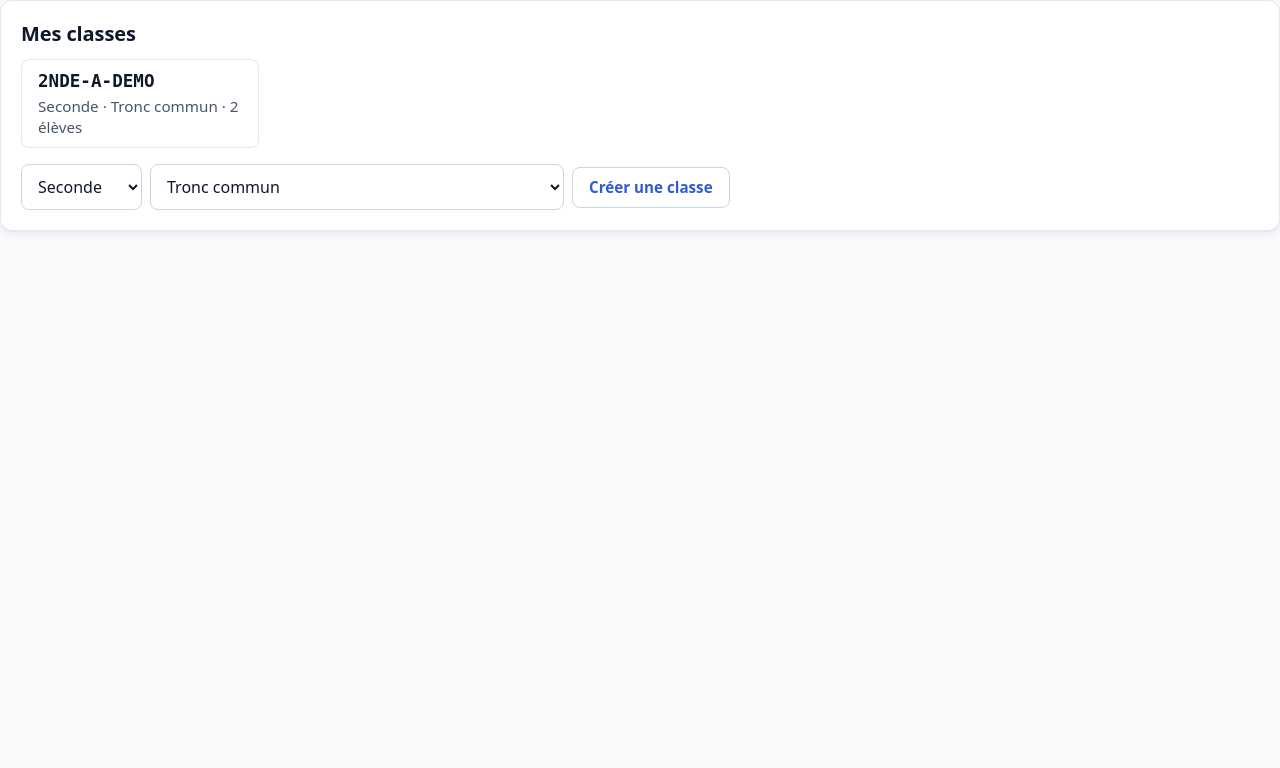
it: classes et élèves › demande confirmation avant l'effacement RGPD
The image size is (1280, 768).
Click the button "2NDE-A-DEMO Seconde · Tronc commun · 2 élèves".
click(140, 104)  # box 21,59 -> 259,148
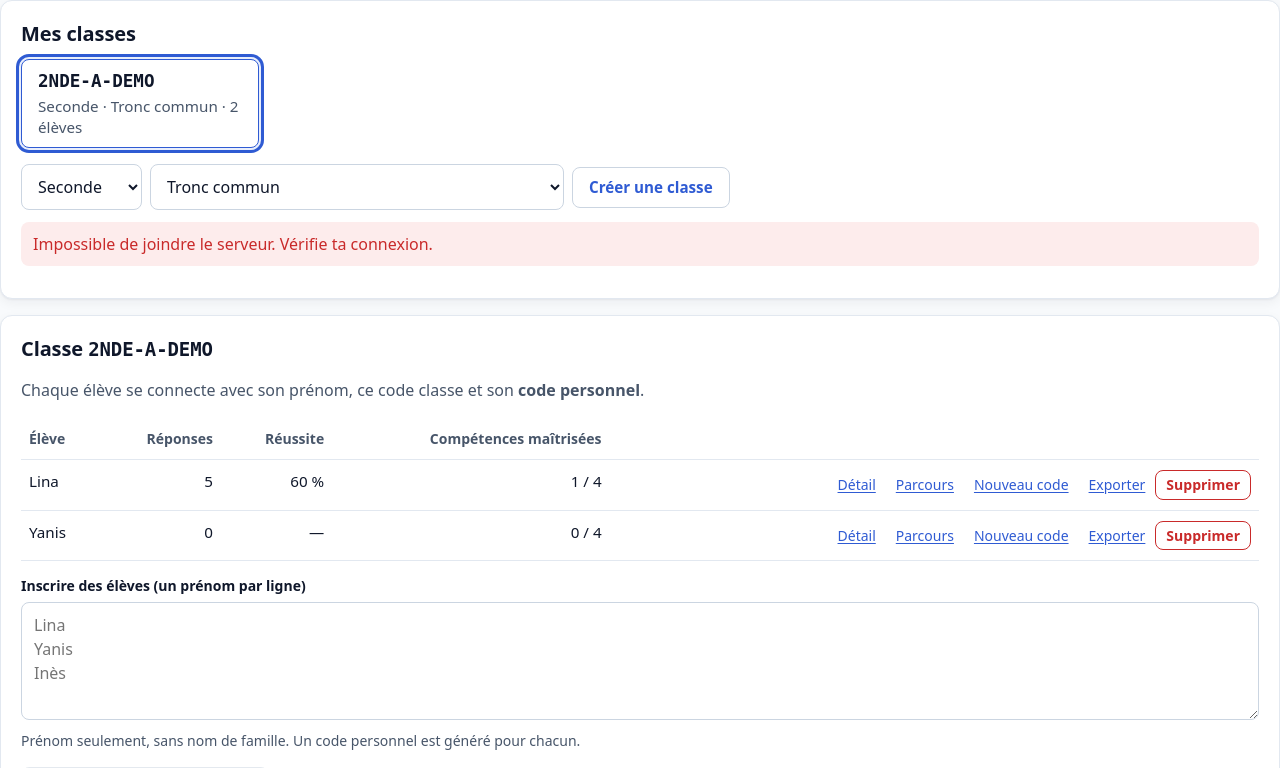
Click the button with aria-label "Supprimer Lina".
click(1203, 485)  # box 1155,470 -> 1251,500
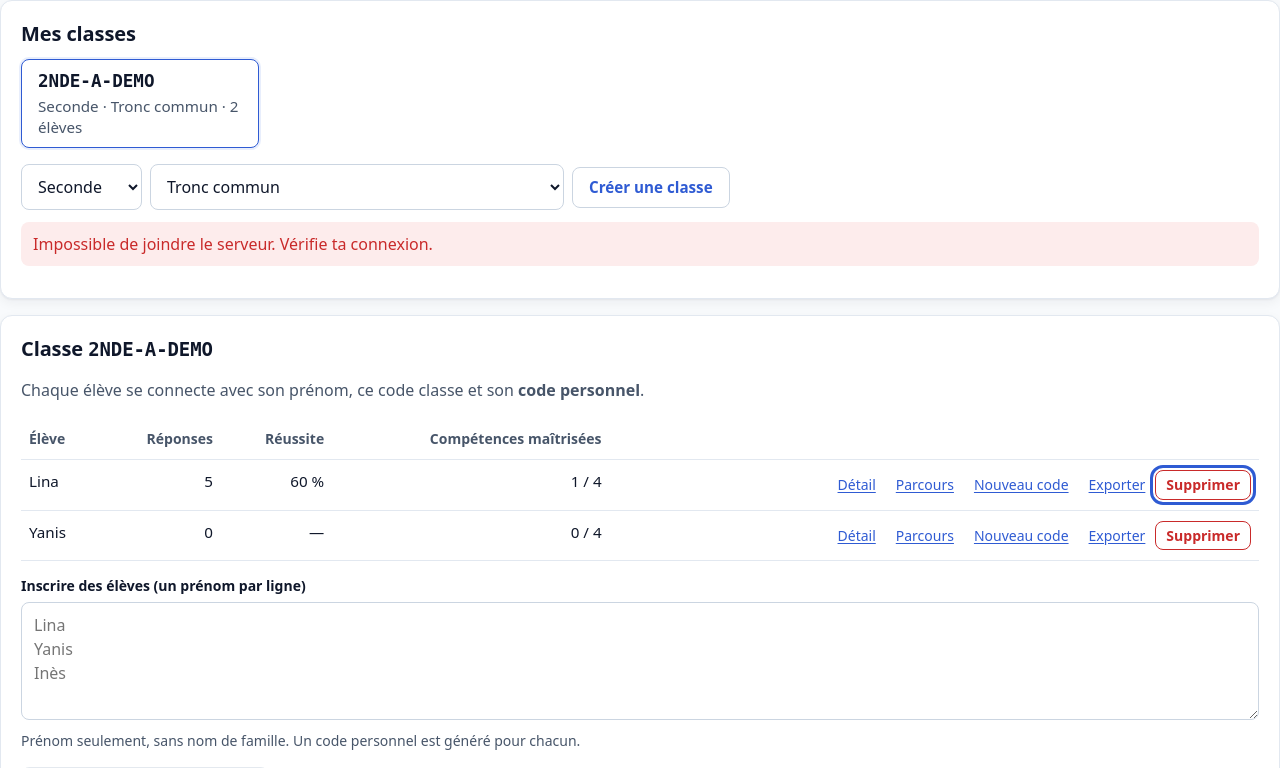
Click the button with aria-label "Supprimer Lina".
click(1203, 485)  # box 1155,470 -> 1251,500
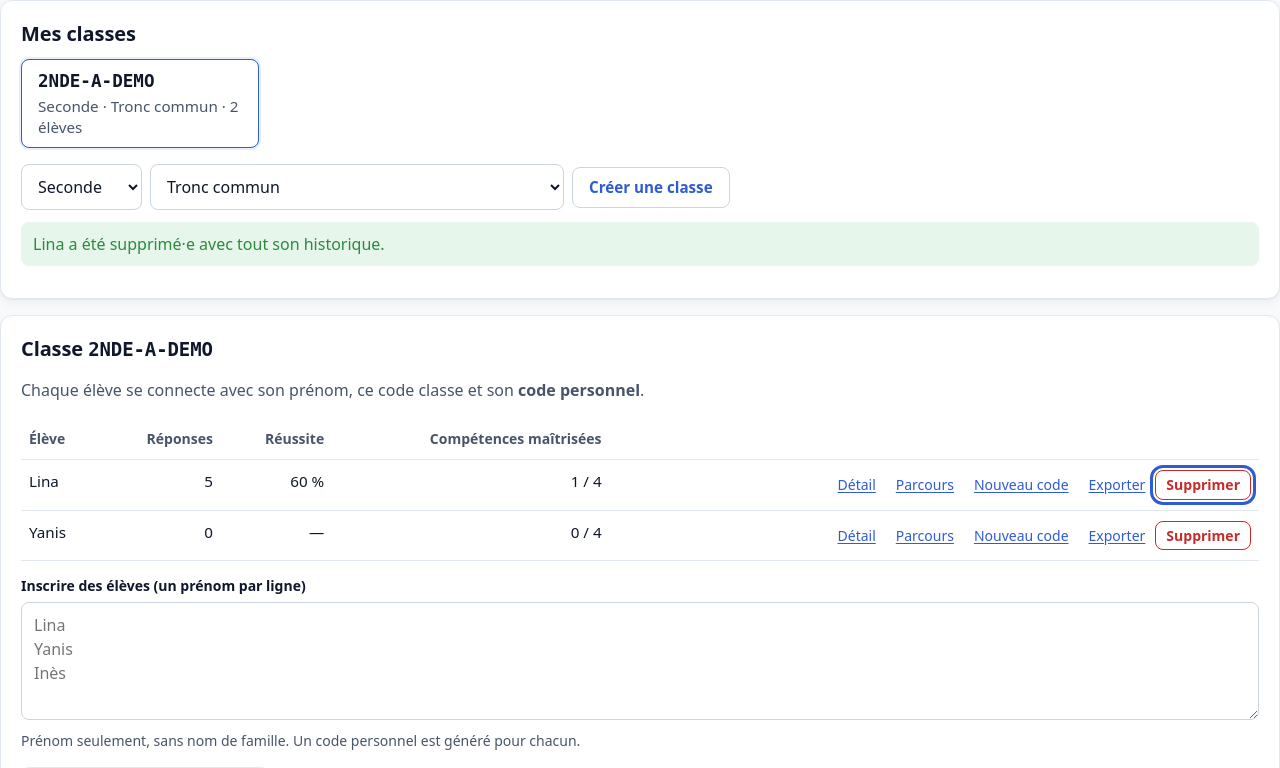
Expected: the message shows "Lina a été supprimé·e", 33,233 -> 385,255
